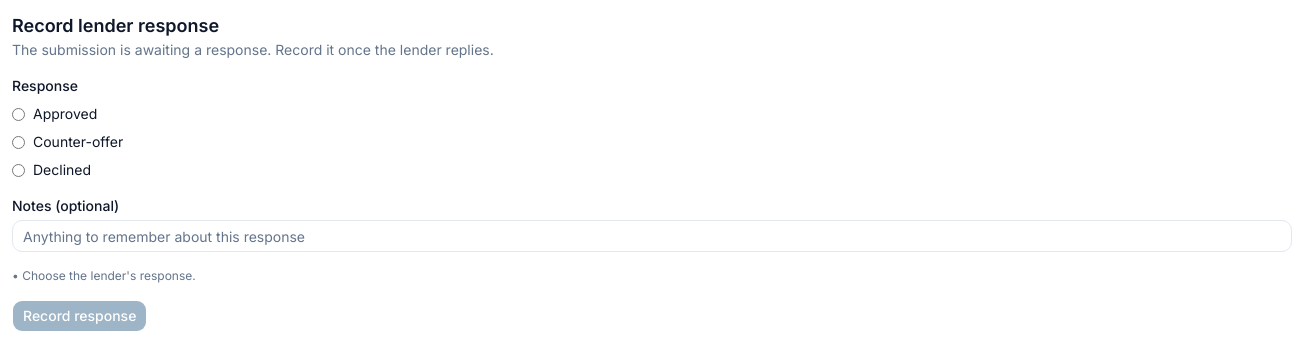
Test: LenderSubmissionResponseForm › shows a submit error when the PATCH returns 400
Step 1. Click the radio button with test id "lender-submission-response-approved" → (18, 114), box [12,108,25,120]
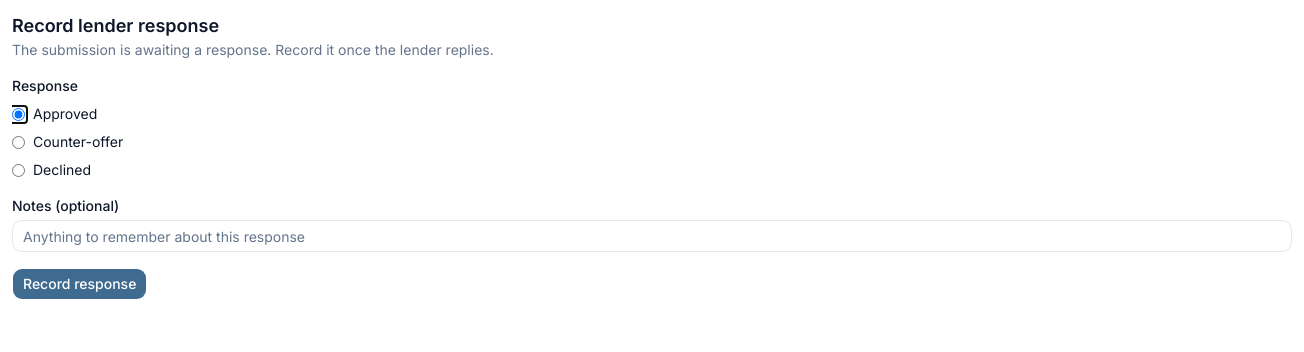
Step 2. Click the button with test id "lender-submission-response-submit" → (80, 284), box [12,268,147,300]
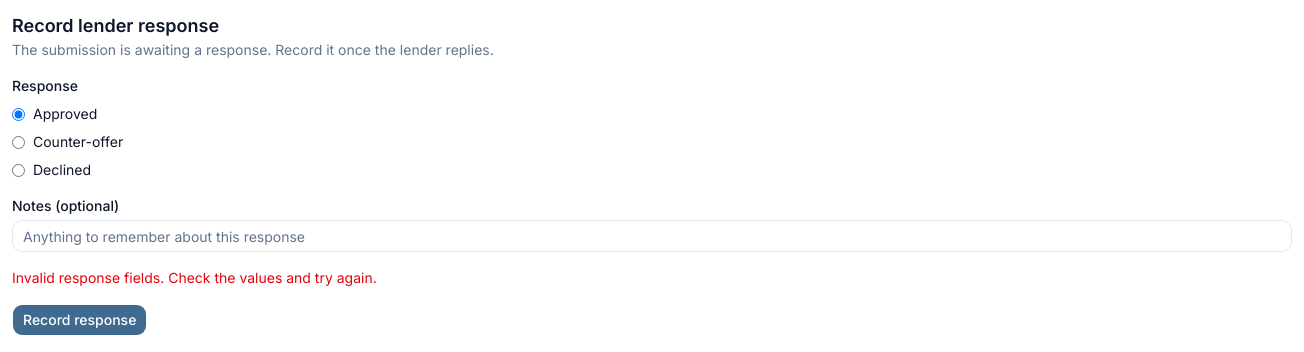
Result: the message with test id "lender-submission-response-error" shows "Invalid response fields" at [12,269,377,286]
